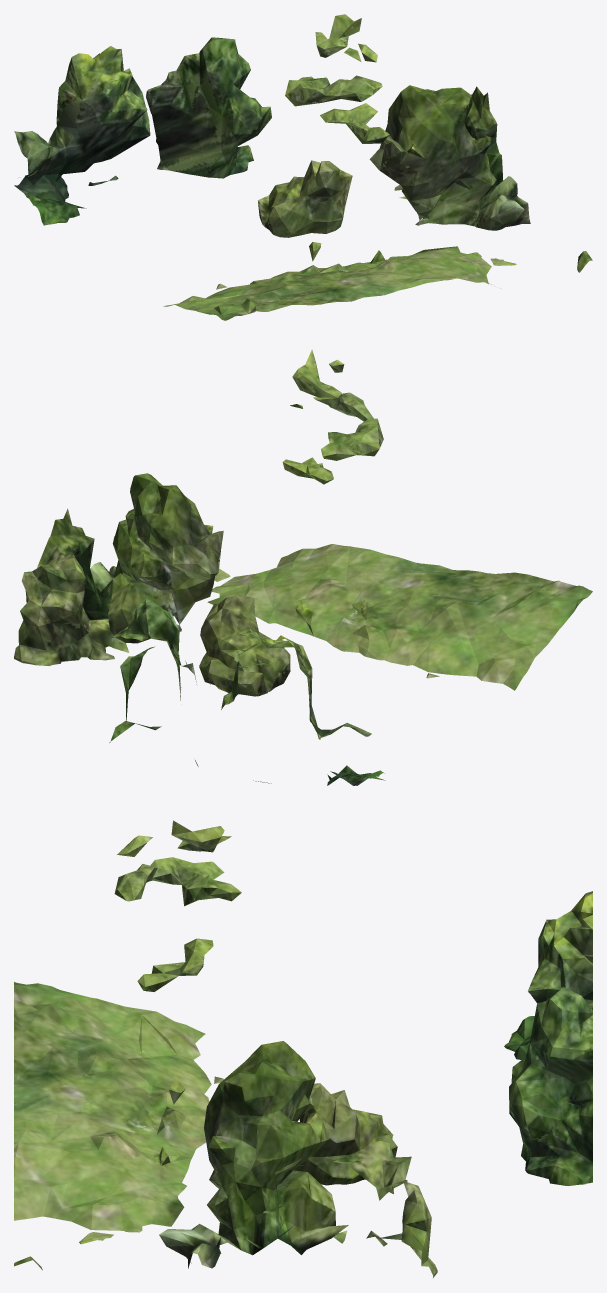
3 renders of one model, top to bottom at view 1: azimuth 30°, elevation 25°; view 2: azimuth 150°, elevation 25°; view 3: azimuth 270°, elevation 25°, orthographic. The views are drawn at different scales.
Bounding box in the file's own units: 26.11 × 17.08 × 26.11.
Materials: 3 (3 with a texture image).
